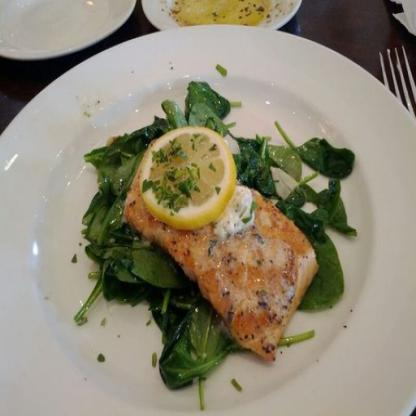lemon: (136, 124, 234, 228)
